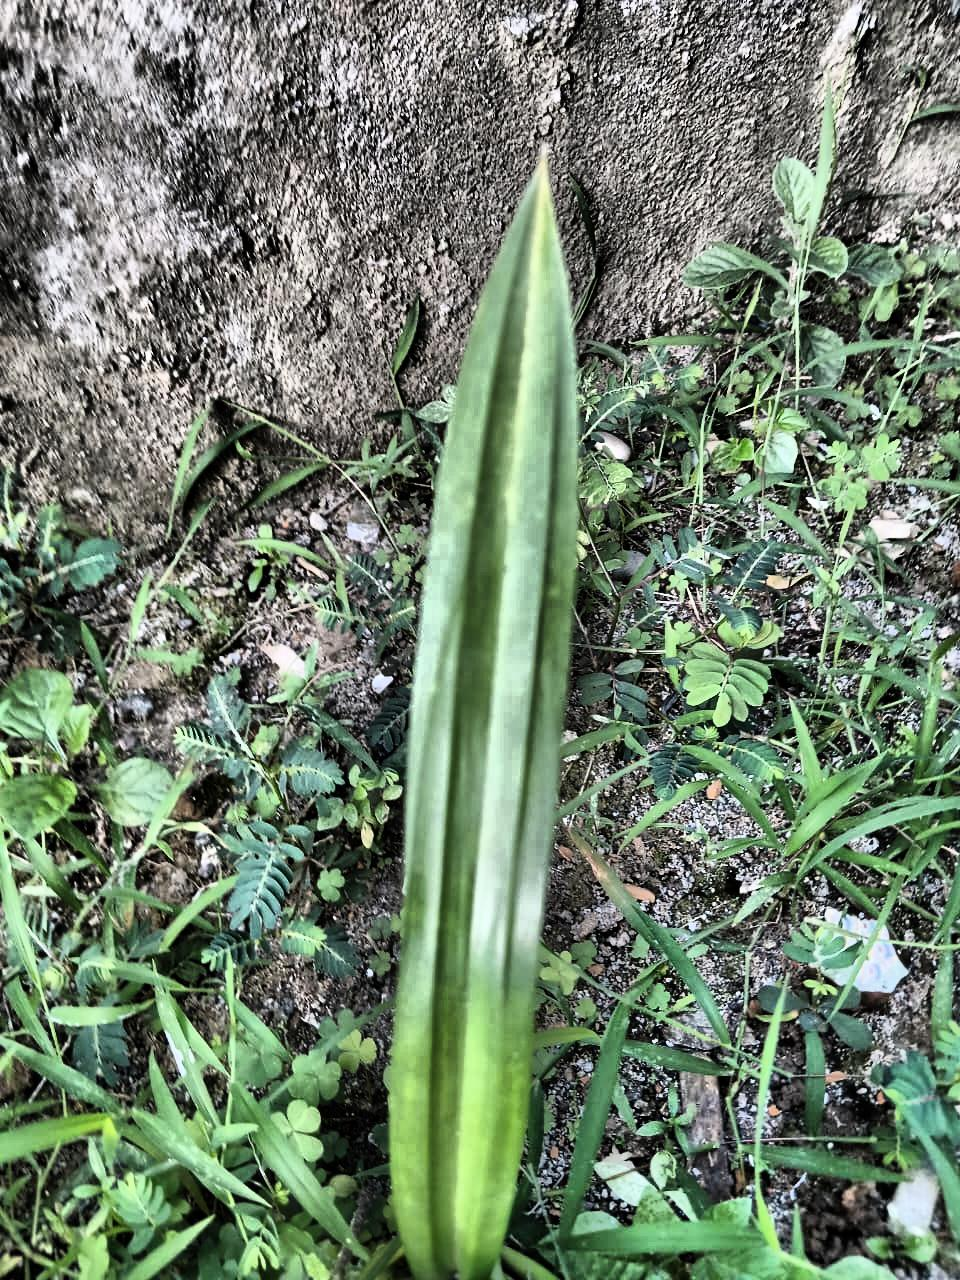daun pandan: (389, 158, 579, 1279)
